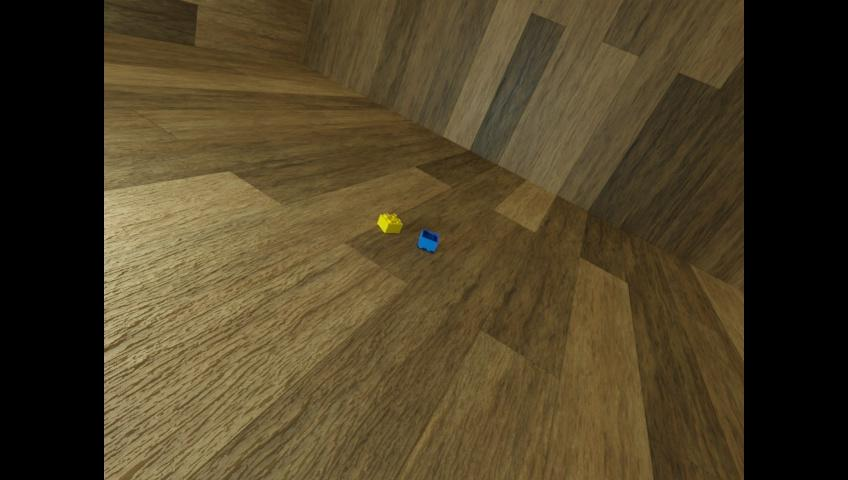2x2_blue: (419, 229, 437, 251)
2x2_yellow: (377, 213, 403, 233)
